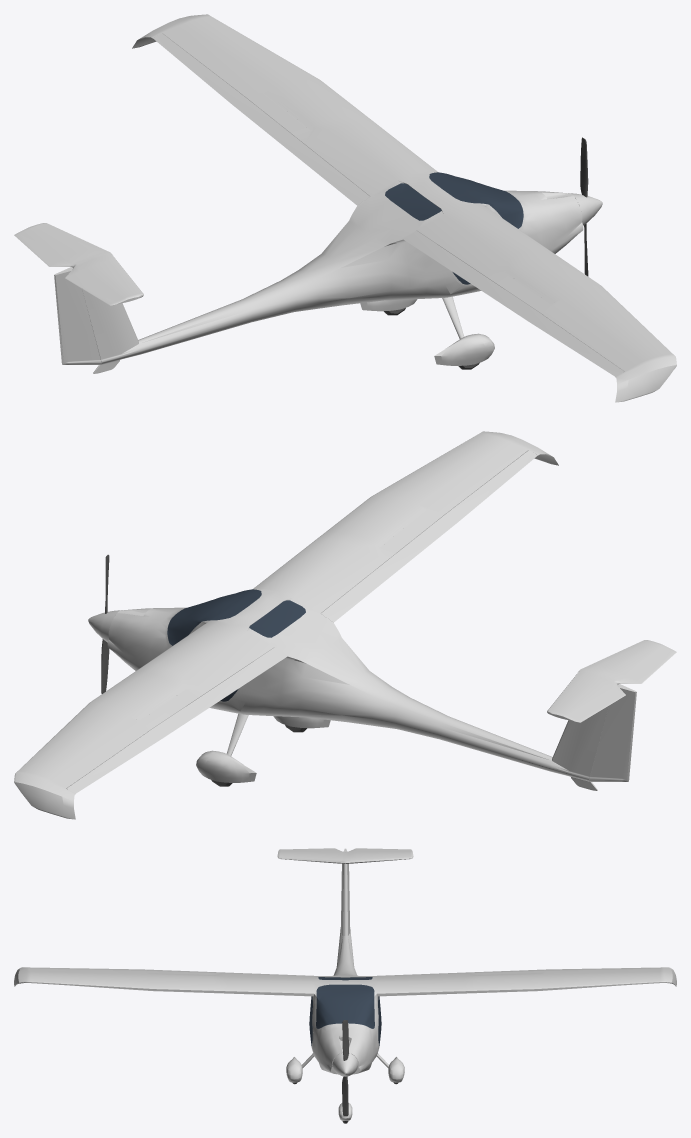
Rendered from virus.glb.
The picture shows the model from 3 angles, top to bottom: view 1: azimuth 30°, elevation 25°; view 2: azimuth 150°, elevation 25°; view 3: azimuth 270°, elevation 25°; orthographic projection. The views are drawn at different scales.
Visible parts, largest first — view 1: body, glass, spin; view 2: body, glass, spin; view 3: body, glass, spin.
Part boxes in pixels (x1=…): body: x1=14, y1=14, x2=676, y2=402; glass: x1=385, y1=172, x2=523, y2=284; spin: x1=580, y1=137, x2=588, y2=276; body: x1=14, y1=431, x2=676, y2=819; glass: x1=167, y1=589, x2=305, y2=701; spin: x1=101, y1=554, x2=109, y2=693; body: x1=14, y1=848, x2=676, y2=1120; glass: x1=309, y1=977, x2=381, y2=1045; spin: x1=342, y1=1020, x2=348, y2=1116.
Size of the model in its own units: 1.43 by 0.4226 by 2.2.
